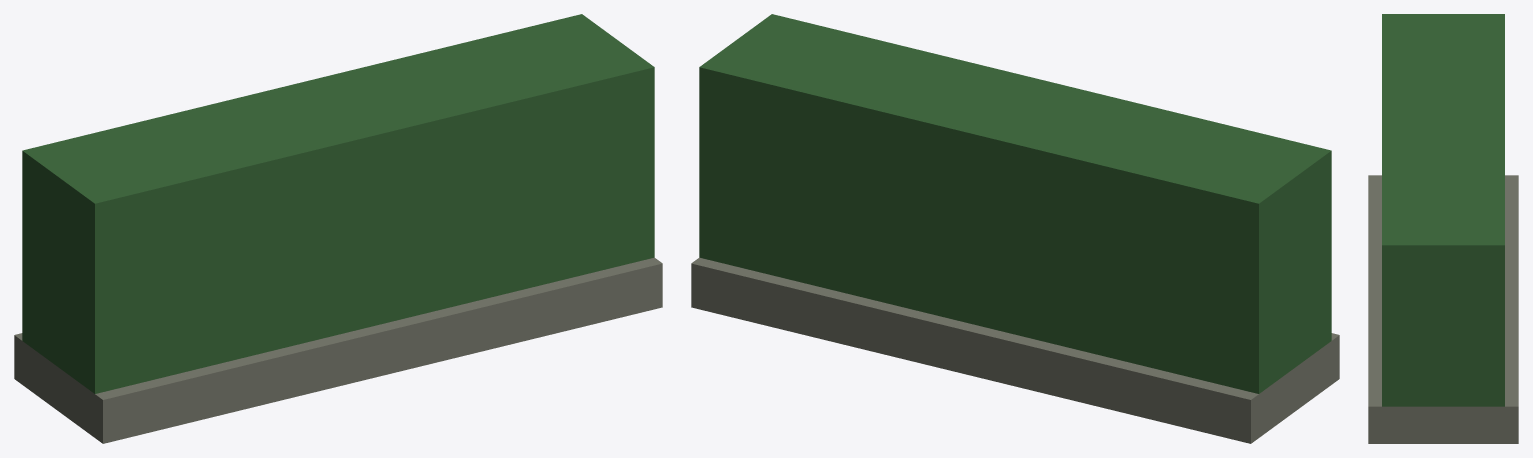
File: Backyard_HedgeStraight_Simple.glb
3 views of the same model, side by side, from view 1: azimuth 30°, elevation 25°; view 2: azimuth 150°, elevation 25°; view 3: azimuth 270°, elevation 25° (orthographic). The views are drawn at different scales.
Parts seen in each view (by area): view 1: Backyard_HedgeStraight_Simple; view 2: Backyard_HedgeStraight_Simple; view 3: Backyard_HedgeStraight_Simple.
Boxes of the visible parts, x1,y1,x2,y2 form: Backyard_HedgeStraight_Simple: (14,14,662,443); Backyard_HedgeStraight_Simple: (691,14,1339,443); Backyard_HedgeStraight_Simple: (1368,14,1518,443).
Size of the model in its own units: 4 by 1.6 by 1.1.
